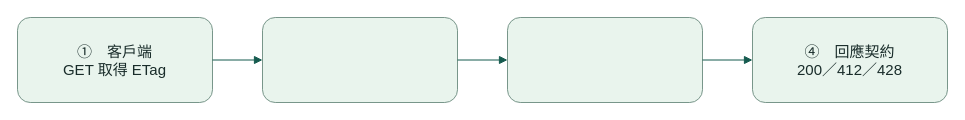
The diagram is 965 pixels wide and 120 high, and some of its shapes have lost their labels. Here are the shapes that lost their labels. From the top down, the centre of each, then its label:
the point at 360,59: ② HTTP 契約 檢查 If-Match
the point at 604,59: ③ 更新邊界 原子比對版本與寫入
